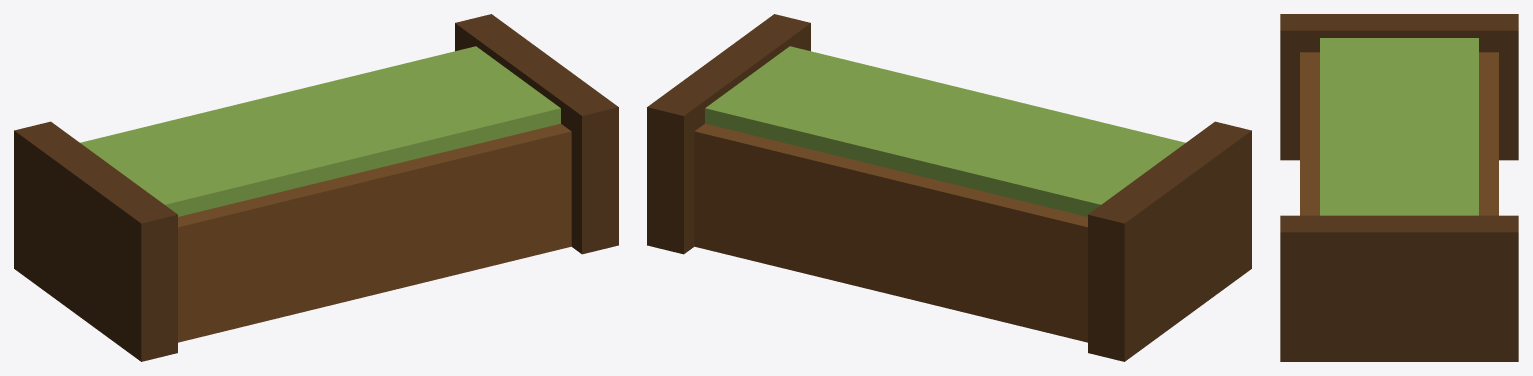
File: cp-feed-trough.glb
3 views of the same model, side by side, from view 1: azimuth 30°, elevation 25°; view 2: azimuth 150°, elevation 25°; view 3: azimuth 270°, elevation 25° (orthographic). The views are drawn at different scales.
Visible parts, largest first — view 1: box-prop; view 2: box-prop; view 3: box-prop.
Part boxes in pixels (x1=…): box-prop: x1=14, y1=14, x2=618, y2=361; box-prop: x1=647, y1=14, x2=1251, y2=361; box-prop: x1=1280, y1=14, x2=1518, y2=361.
Size of the model in its own units: 1.3 by 0.36 by 0.6.
